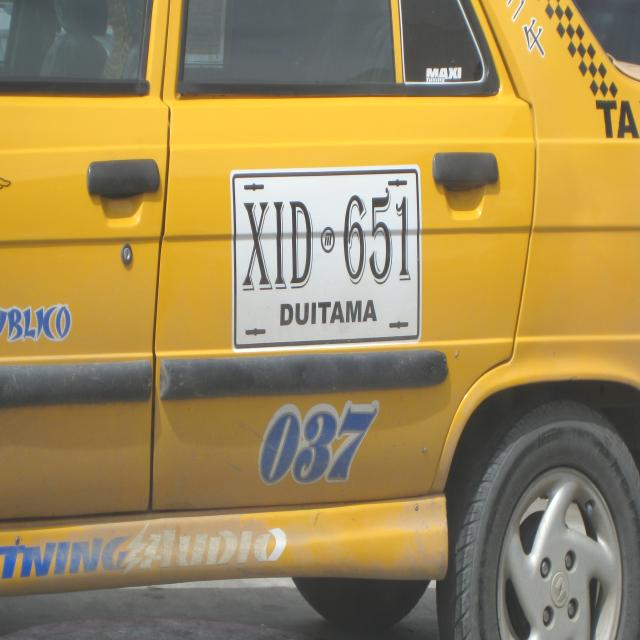placa: (227, 160, 423, 349)
